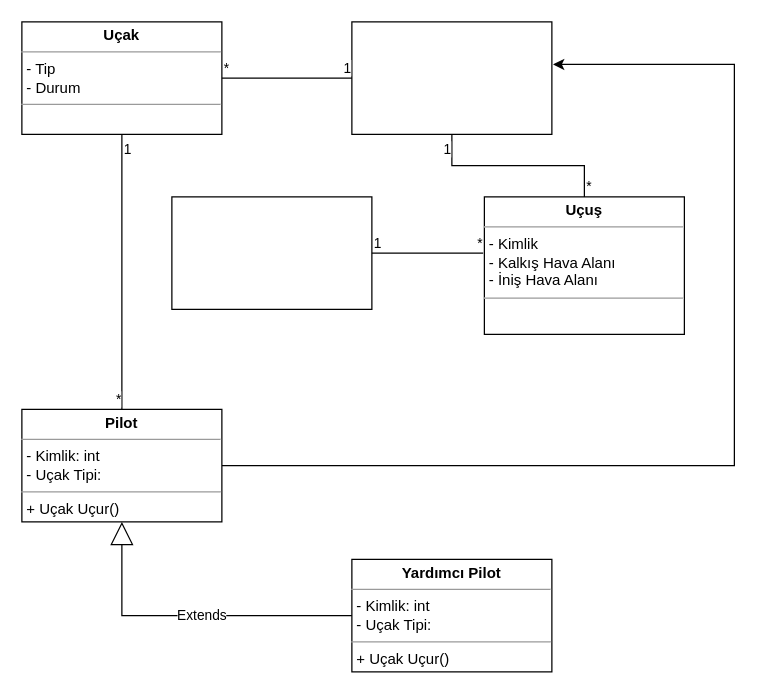
This 766x694 diagram has some shape labels left out. The box of each missing label's shape, as (x1, y1, x2, y2) in pixels:
Hava Alanı - isim - Hava Alan Kimliği: (171, 196, 372, 309)
Hava Yolu Şirketi - Kimlik: int - Uçak Tipi:: (351, 21, 552, 134)
